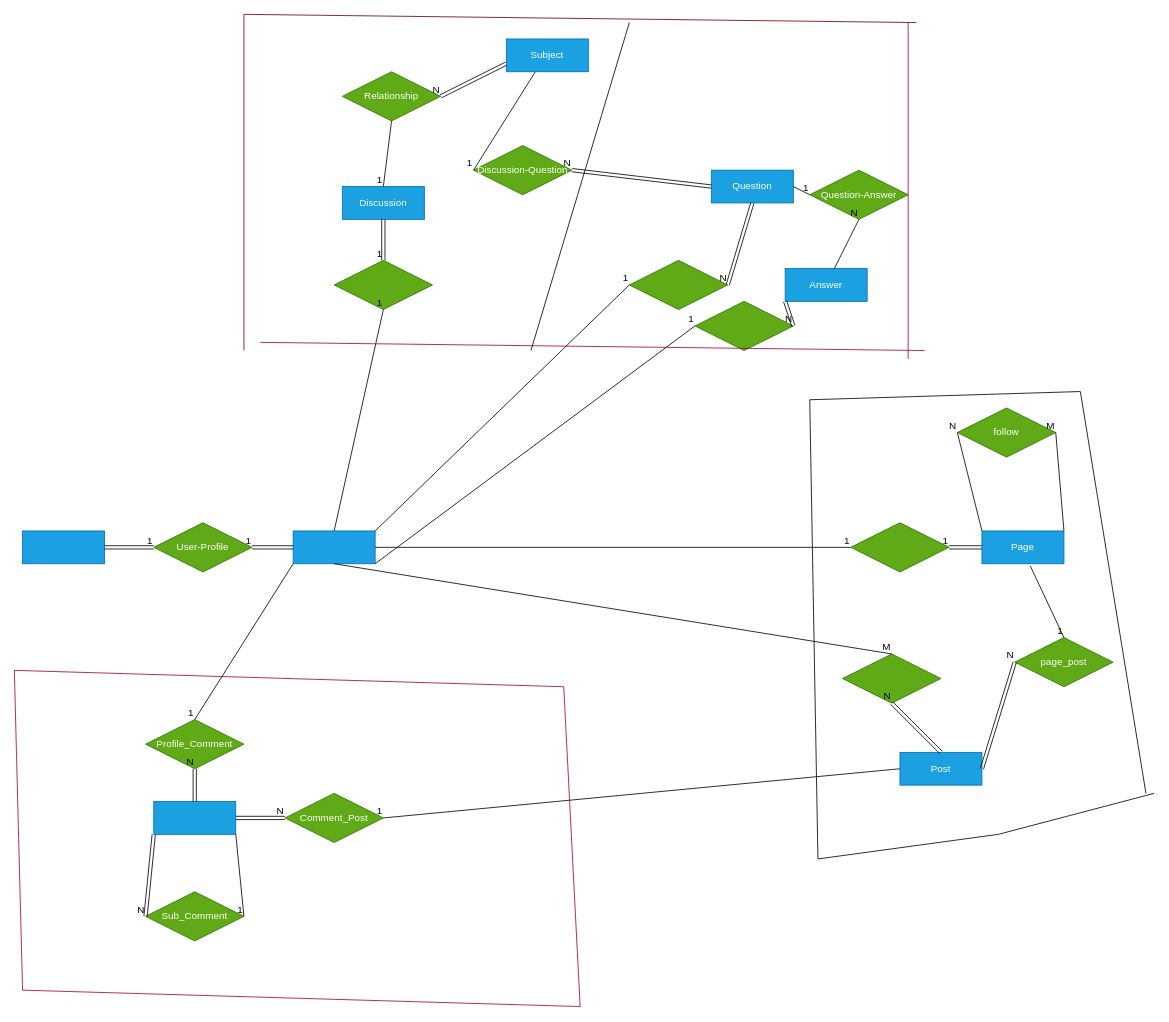
This 1169x1022 diagram has some shape labels left out. Here are the shapes that lost their labels. From the top down, the centre of each, then its label:
point (383, 285): Profile_Discussion
point (678, 285): Profile_Question
point (743, 326): Profile_Answer
point (63, 547): User
point (333, 547): Profile
point (899, 547): Profile_Page
point (891, 678): Profile_Post
point (194, 817): Comment
